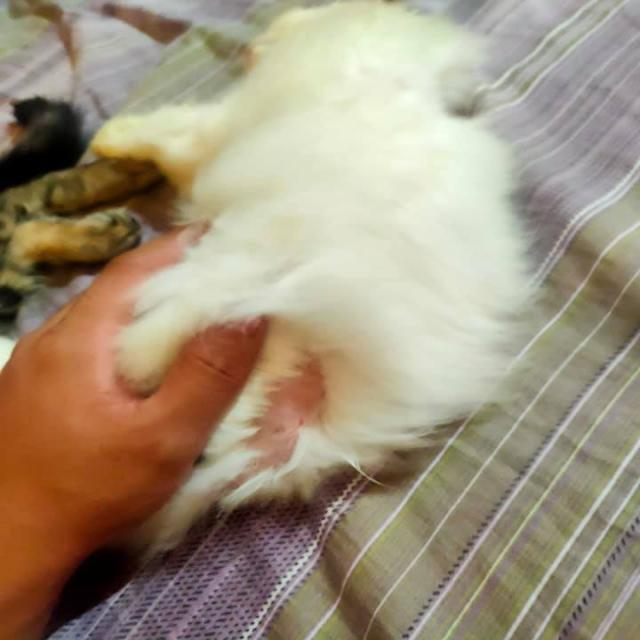hac lao: (226, 349, 360, 478)
